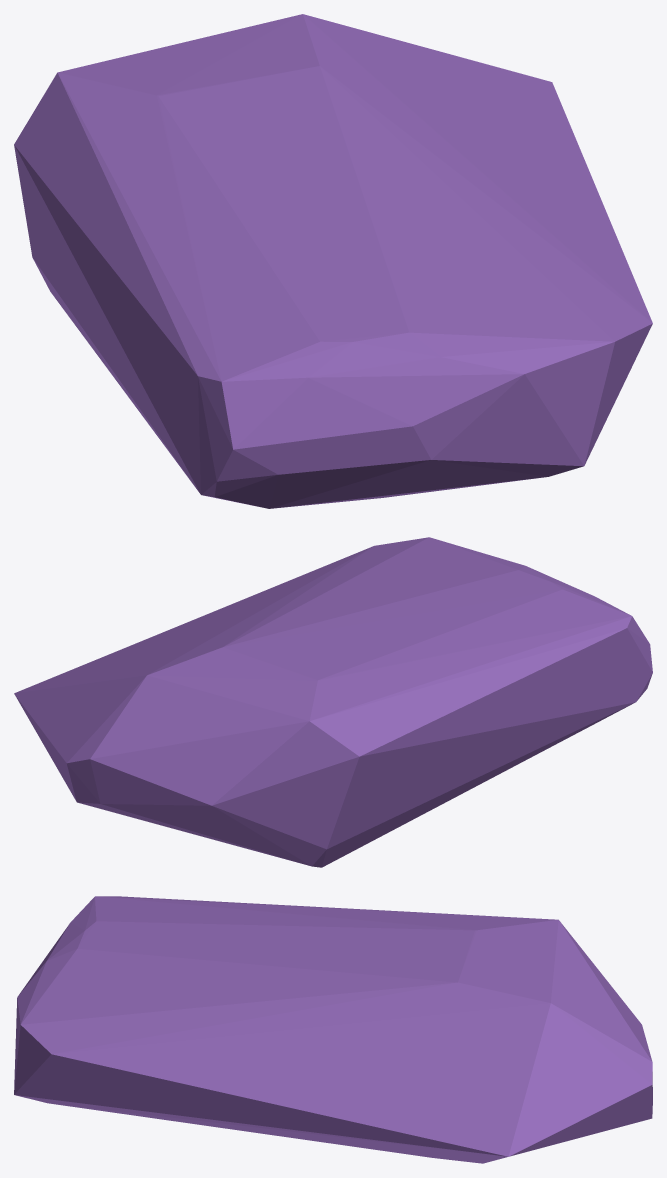
The model's file is tool_power_surgical_c01.glb.
3 renders of one model, top to bottom at view 1: azimuth 30°, elevation 25°; view 2: azimuth 150°, elevation 25°; view 3: azimuth 270°, elevation 25°, orthographic. The views are drawn at different scales.
Visible parts, largest first — view 1: geometry_0; view 2: geometry_0; view 3: geometry_0.
Boxes of the visible parts, x1,y1,x2,y2 form: geometry_0: (14, 14, 652, 508); geometry_0: (14, 537, 652, 867); geometry_0: (14, 896, 652, 1163).
Size of the model in its own units: 0.3881 by 0.1366 by 0.4637.
